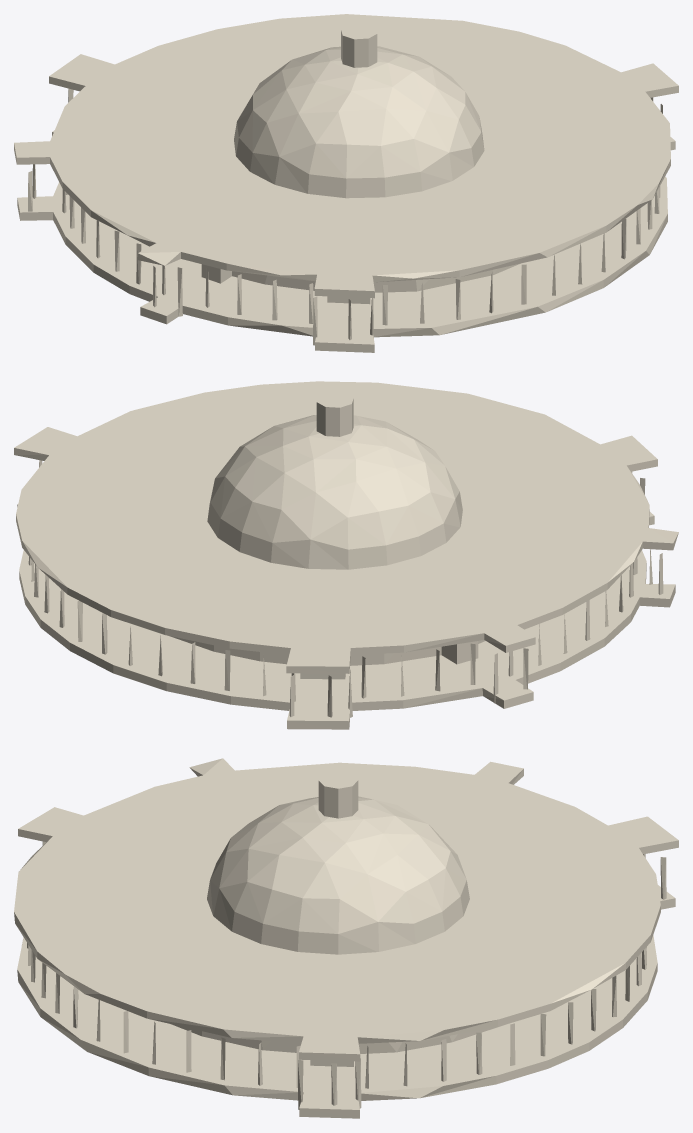
The model's file is old-parliament-house_lod1.glb.
3 renders of one model, top to bottom at view 1: azimuth 30°, elevation 25°; view 2: azimuth 150°, elevation 25°; view 3: azimuth 270°, elevation 25°, orthographic. The views are drawn at different scales.
Parts seen in each view (by area): view 1: old-parliament-house; view 2: old-parliament-house; view 3: old-parliament-house.
Part boxes in pixels (x1,y1,x2,y2): old-parliament-house: (14,14,678,352); old-parliament-house: (14,381,678,729); old-parliament-house: (14,758,678,1118).
Size of the model in its own units: 190 by 55.41 by 181.
